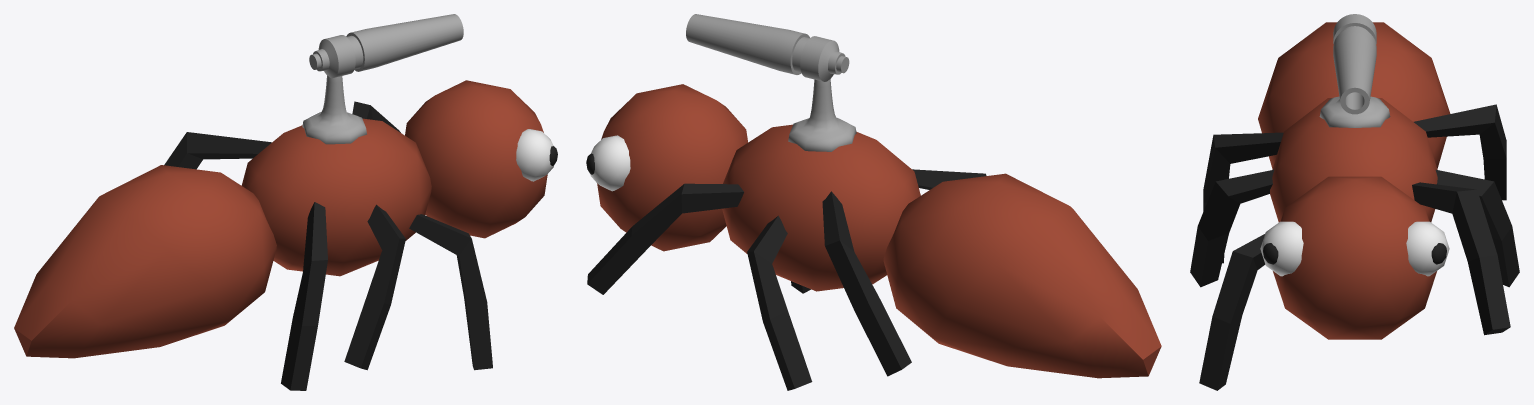
Rendered from ant.glb.
3 renders of one model, left to right at view 1: azimuth 30°, elevation 25°; view 2: azimuth 150°, elevation 25°; view 3: azimuth 270°, elevation 25°, orthographic. The views are drawn at different scales.
Parts seen in each view (by area): view 1: Icosphere.001, Icosphere, Icosphere.002, Cylinder, Cube.005, Cube.004, Cube.003, Cube.006, Cube, Icosphere.003; view 2: Icosphere.001, Icosphere, Icosphere.002, Cylinder, Cube, Cube.002, Cube.001, Cube.006, Icosphere.003, Cube.005; view 3: Icosphere.002, Icosphere.001, Icosphere, Cube.002, Cube.003, Cube.004, Cylinder, Cube, Icosphere.003, Cube.001, Cube.005, Cube.006 (+1 smaller).
Boxes of the visible parts, x1,y1,x2,y2 form: Icosphere.001: (14, 165, 276, 358); Icosphere: (241, 118, 431, 276); Icosphere.002: (405, 80, 547, 238); Cylinder: (309, 14, 463, 78); Cube.005: (281, 202, 327, 390); Cube.004: (344, 204, 405, 370); Cube.003: (409, 214, 492, 370); Cube.006: (302, 75, 366, 144); Cube: (164, 132, 271, 169); Icosphere.003: (516, 129, 553, 181); Icosphere.001: (883, 173, 1161, 378); Icosphere: (722, 124, 920, 291); Icosphere.002: (597, 84, 747, 251); Cylinder: (686, 14, 849, 81); Cube: (822, 191, 911, 376); Cube.002: (587, 183, 743, 294); Cube.001: (747, 215, 812, 390); Cube.006: (788, 79, 856, 151); Icosphere.003: (590, 135, 630, 191); Cube.005: (912, 169, 986, 189); Icosphere.002: (1273, 176, 1436, 339); Icosphere.001: (1258, 22, 1450, 168); Icosphere: (1270, 98, 1437, 222); Cube.002: (1412, 182, 1510, 335); Cube.003: (1199, 234, 1265, 390); Cube.004: (1190, 169, 1274, 287); Cylinder: (1333, 14, 1376, 114); Cube: (1414, 104, 1506, 200); Icosphere.003: (1260, 221, 1449, 276); Cube.001: (1435, 169, 1519, 287); Cube.005: (1203, 132, 1283, 263); Cube.006: (1319, 96, 1390, 127).
Size of the model in its own units: 1.97 by 1.1 by 1.01.
